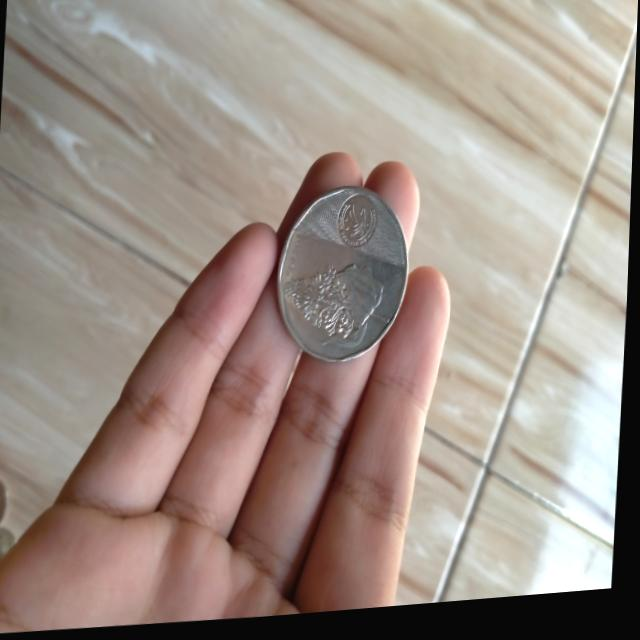10_New_Back: (274, 256, 404, 372)
